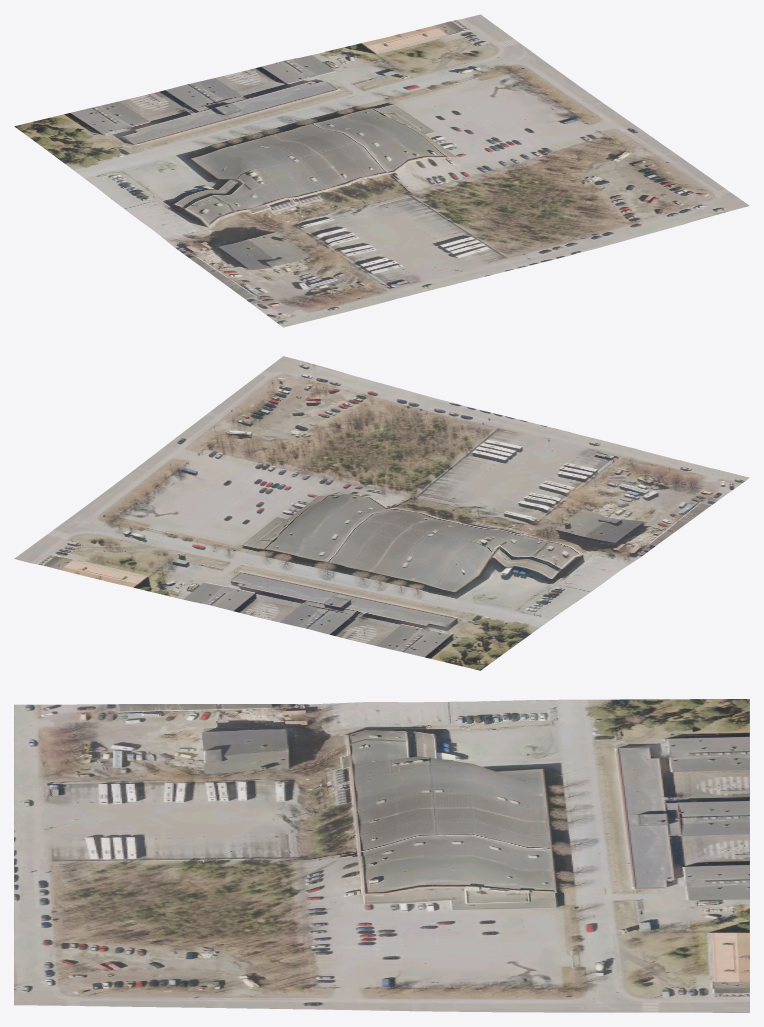
The model's file is CM_Terrain_24489025_6818975.fbx.
3 renders of one model, top to bottom at view 1: azimuth 30°, elevation 25°; view 2: azimuth 150°, elevation 25°; view 3: azimuth 270°, elevation 25°, orthographic. The views are drawn at different scales.
Parts seen in each view (by area): view 1: CM_Terrain_24489025_6818975_LOD0; view 2: CM_Terrain_24489025_6818975_LOD0; view 3: CM_Terrain_24489025_6818975_LOD0.
Boxes of the visible parts, bbox=[...] form: CM_Terrain_24489025_6818975_LOD0: bbox=[14, 14, 749, 327]; CM_Terrain_24489025_6818975_LOD0: bbox=[14, 356, 749, 670]; CM_Terrain_24489025_6818975_LOD0: bbox=[14, 699, 749, 1012].
Size of what is drawn, in the model's own units: 205 by 9.61 by 205.
